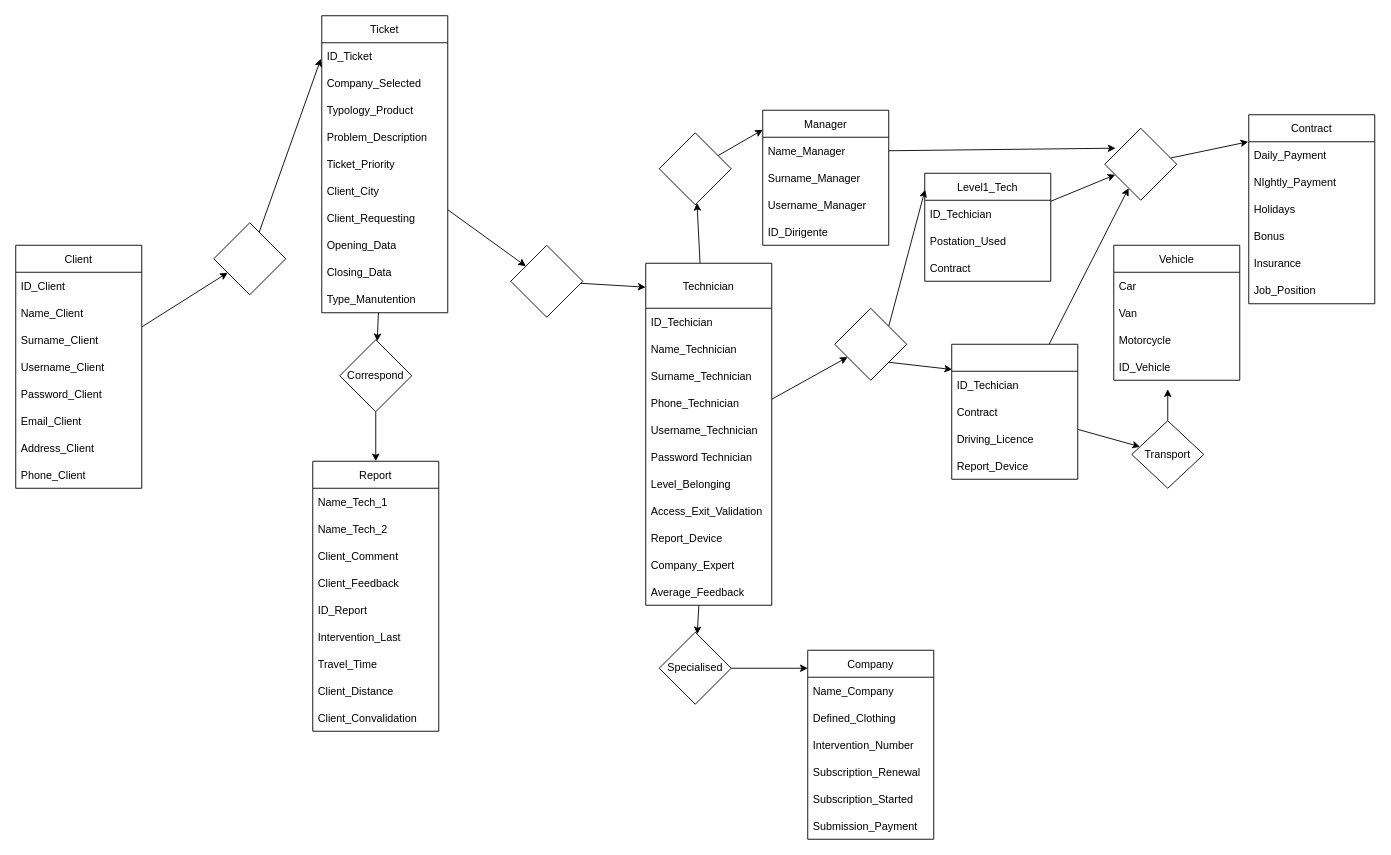
The diagram is 1391 pixels wide and 855 high, and some of its shapes have lost their labels. Here are the shapes that lost their labels. From the top down, the box of each, then its label:
(658, 132, 731, 205): Supervised
(1104, 127, 1177, 200): Pyment
(213, 222, 286, 295): Fill
(510, 244, 583, 317): Managed
(834, 307, 907, 380): Belongs
(951, 343, 1078, 479): Level2_Tech
